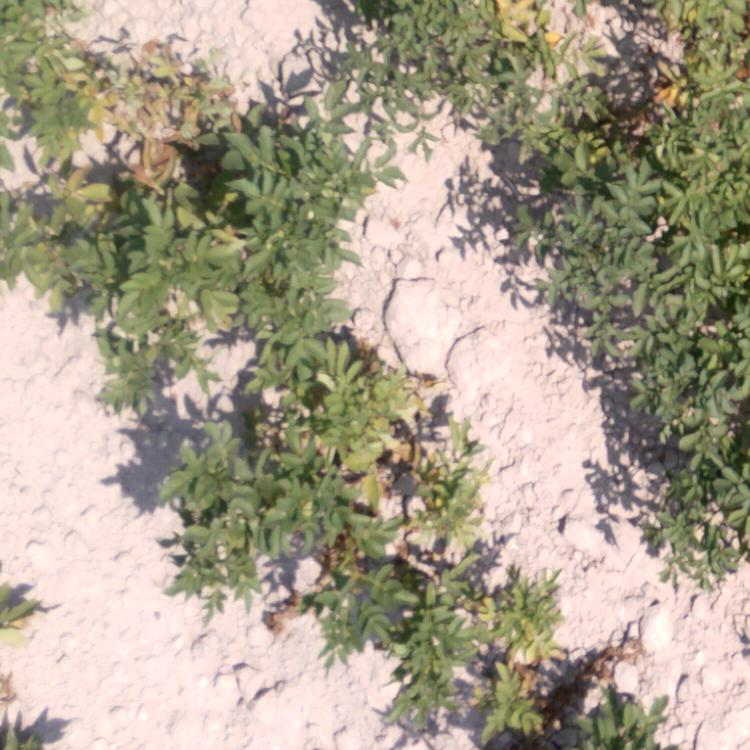healthy: (488, 160, 750, 352), (598, 356, 747, 577), (235, 120, 362, 339), (171, 425, 333, 562), (321, 5, 486, 114)
stressed: (1, 156, 227, 336), (340, 495, 482, 727), (573, 1, 746, 153), (483, 641, 660, 750), (349, 344, 476, 491), (97, 37, 214, 171), (6, 1, 91, 160), (489, 1, 564, 149), (3, 579, 59, 750), (95, 339, 222, 414), (232, 340, 335, 413), (486, 561, 571, 638)
